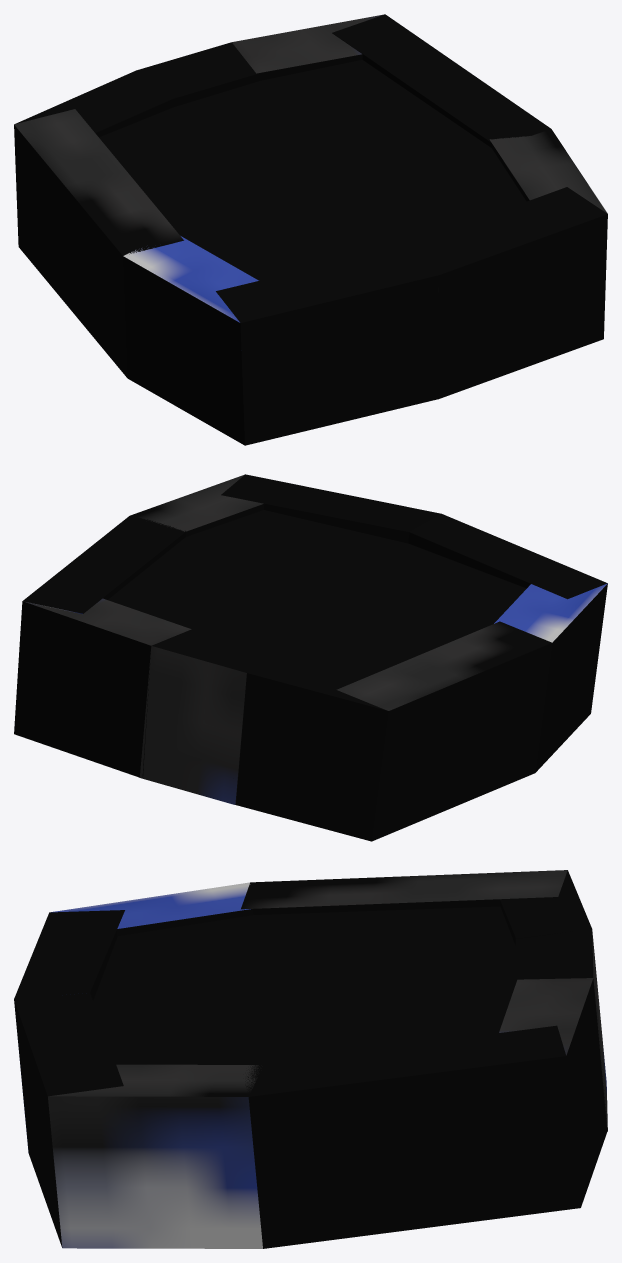
The model's file is cossack_blue_h.obj.
The picture shows the model from 3 angles, top to bottom: view 1: azimuth 30°, elevation 25°; view 2: azimuth 150°, elevation 25°; view 3: azimuth 270°, elevation 25°; orthographic projection. The views are drawn at different scales.
Visible parts, largest first — view 1: mesh; view 2: mesh; view 3: mesh.
Boxes of the visible parts, bbox=[...] form: mesh: bbox=[14, 14, 607, 445]; mesh: bbox=[14, 474, 607, 841]; mesh: bbox=[14, 870, 607, 1248].
Size of the model in its own units: 0.6987 by 0.2879 by 0.7223.
